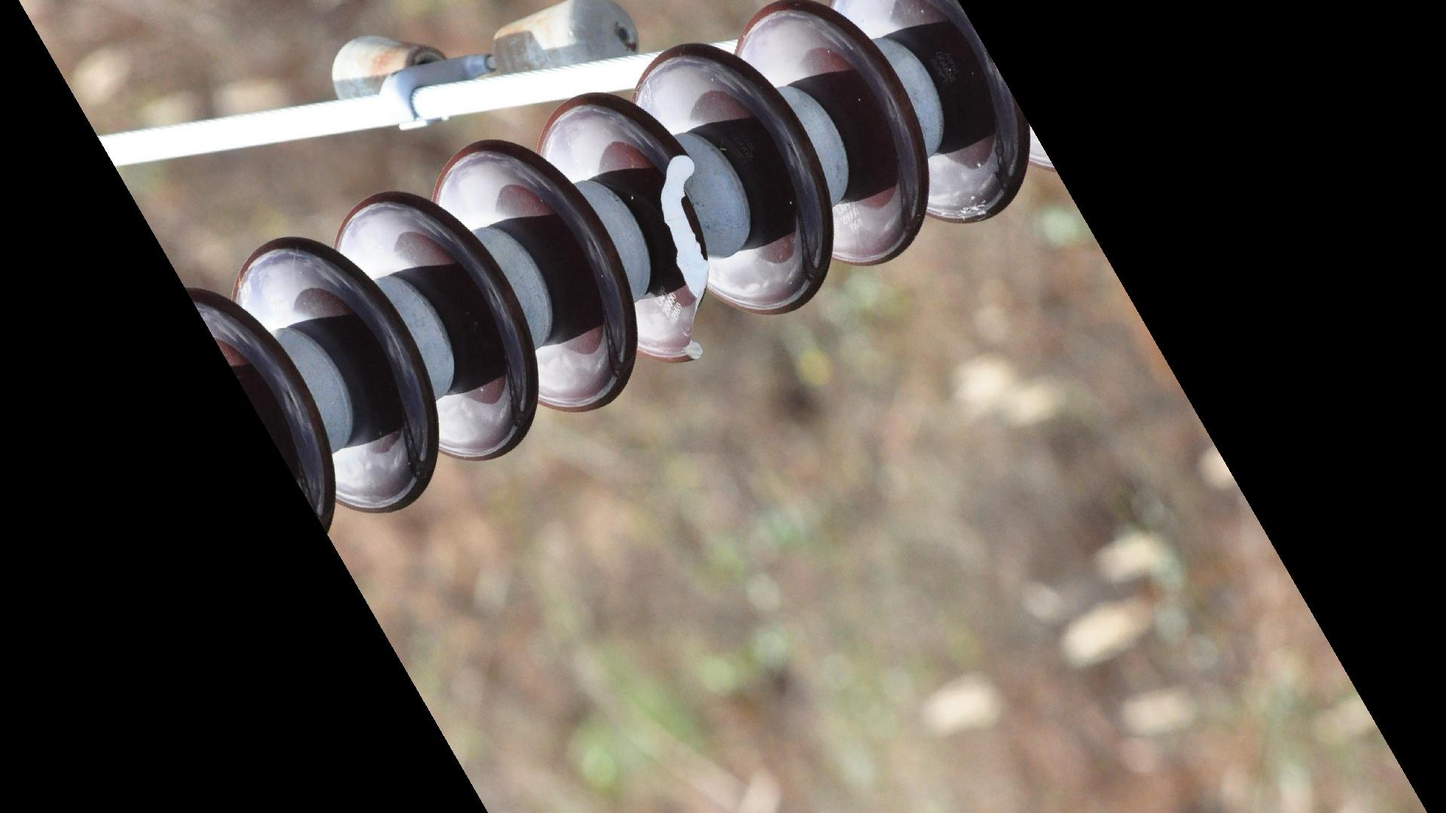insulator: (176, 1, 1046, 543)
insulator_breakage: (647, 144, 718, 373)
